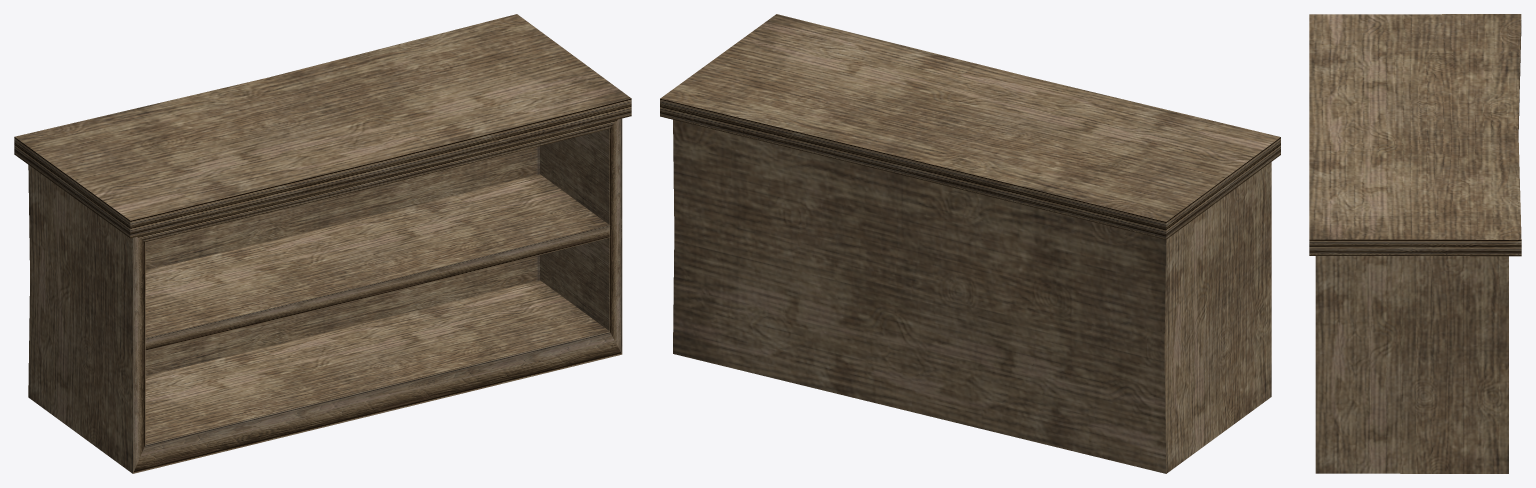
File: GS_VOB_COUNTER_YELLOW_01_KOZA.glb
3 renders of one model, left to right at view 1: azimuth 30°, elevation 25°; view 2: azimuth 150°, elevation 25°; view 3: azimuth 270°, elevation 25°, orthographic. The views are drawn at different scales.
Visible parts, largest first — view 1: GS_VOB_COUNTER_YELLOW_01_KOZA; view 2: GS_VOB_COUNTER_YELLOW_01_KOZA; view 3: GS_VOB_COUNTER_YELLOW_01_KOZA.
Boxes of the visible parts, x1,y1,x2,y2 form: GS_VOB_COUNTER_YELLOW_01_KOZA: [14, 14, 631, 473]; GS_VOB_COUNTER_YELLOW_01_KOZA: [660, 14, 1280, 473]; GS_VOB_COUNTER_YELLOW_01_KOZA: [1309, 14, 1521, 473].
Size of the model in its own units: 2.08 by 1.02 by 0.8242.
Materials: 2 (2 with a texture image).
